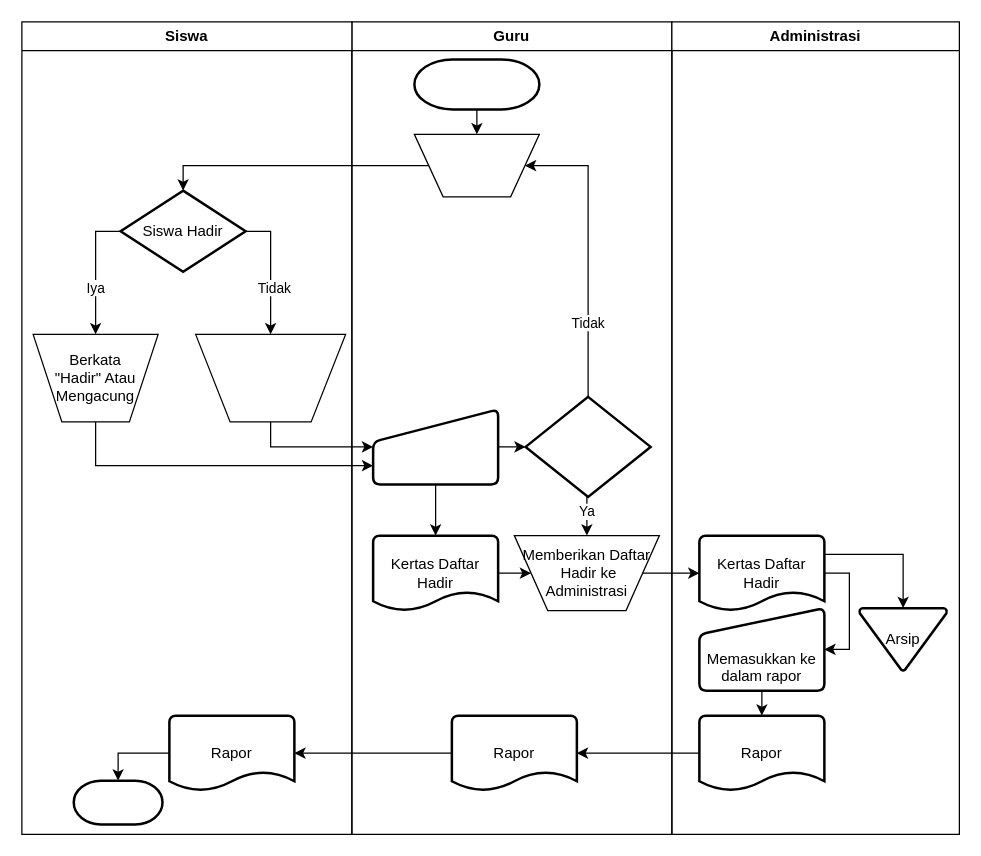
This 981x856 diagram has some shape labels left out. Here are the shapes that lost their labels. From the top down, the centre of each, then its label:
the point at 476,84: Start
the point at 476,165: Menyebutkan Nama Siswa
the point at 270,377: Sie. Absensi Menyebutkan Izin/Sakit/Alfa
the point at 435,446: Menulis sesuai dengan kehadiran
the point at 587,446: Semua Siswa sudah di absen
the point at 117,802: End
